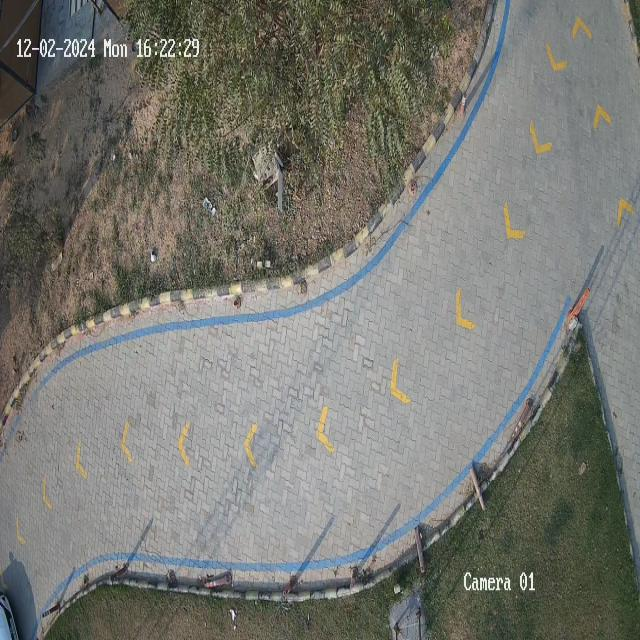car: (0, 595, 19, 640)
